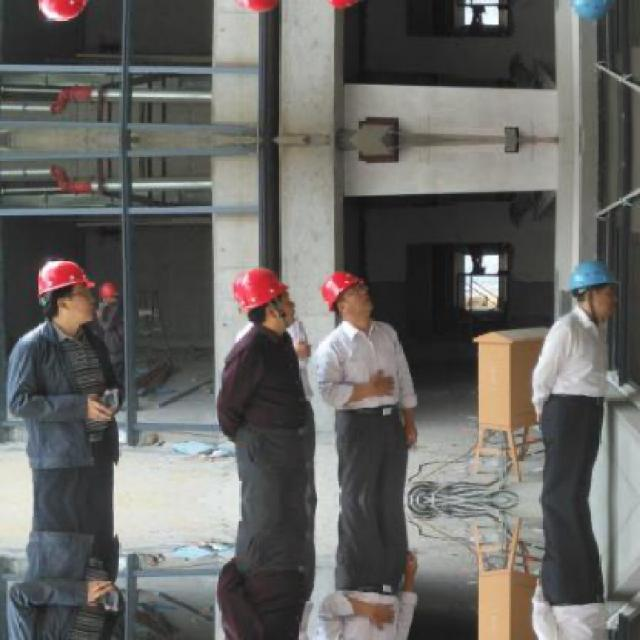helmet: (228, 264, 298, 334), (34, 255, 95, 331), (562, 252, 624, 322), (314, 265, 374, 323), (562, 0, 626, 26), (33, 0, 96, 23), (226, 0, 299, 14), (314, 0, 375, 14), (100, 278, 122, 304)
